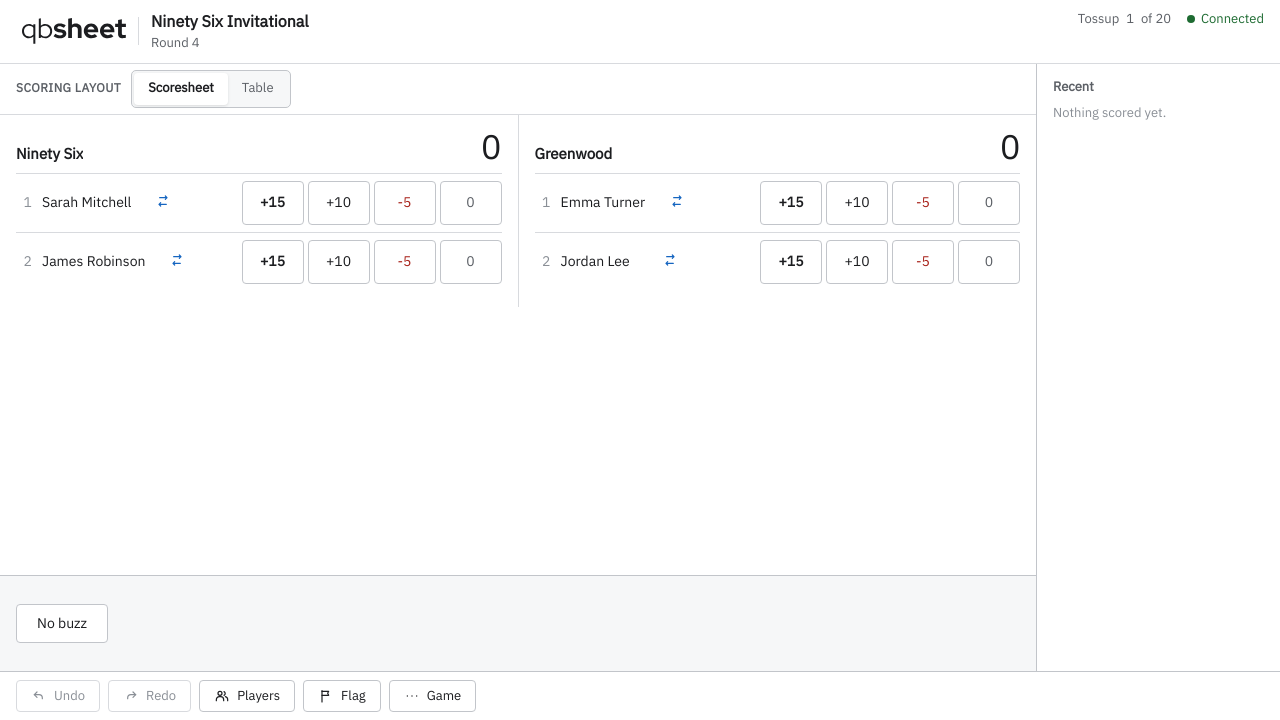
what the editor leads with › a completed tossup does not offer an impossible second attempt
The width and height of the screenshot is (1280, 720).
Click the button "+10" in the row of "Sarah Mitchell" at (338, 203), box [308,181,370,225]
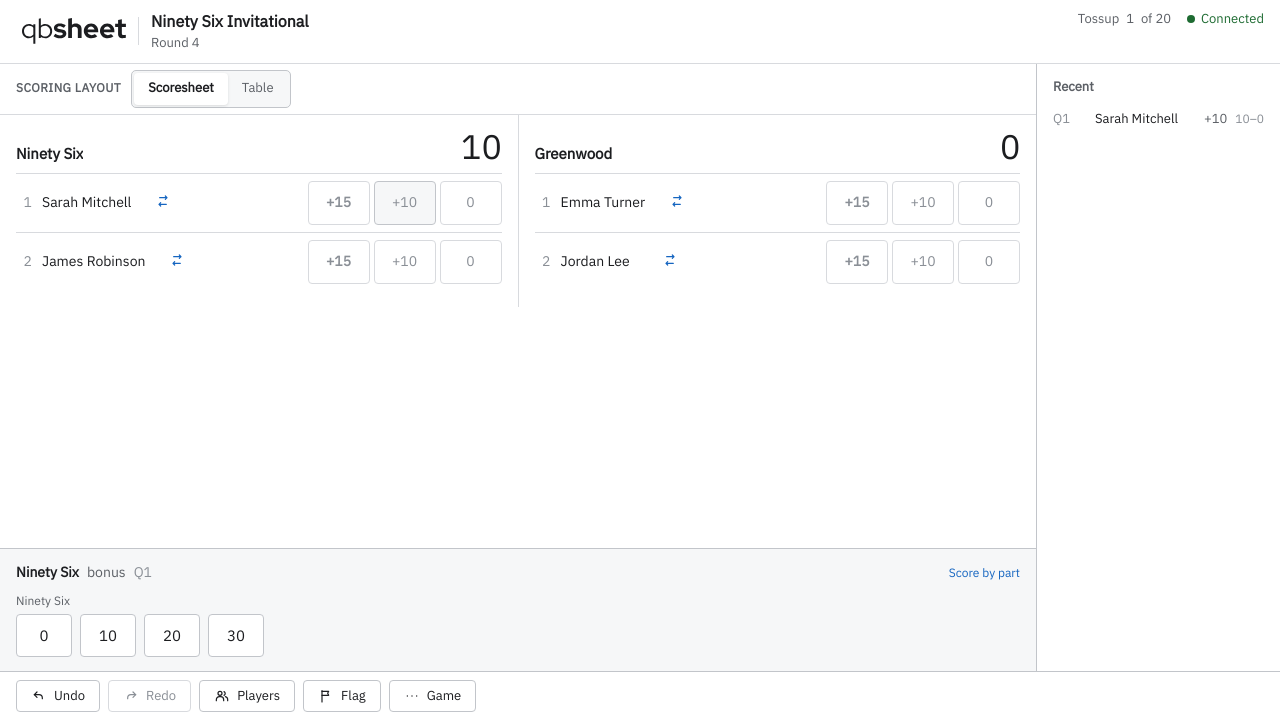
Click the button "20" at (172, 635), box [144,614,200,657]
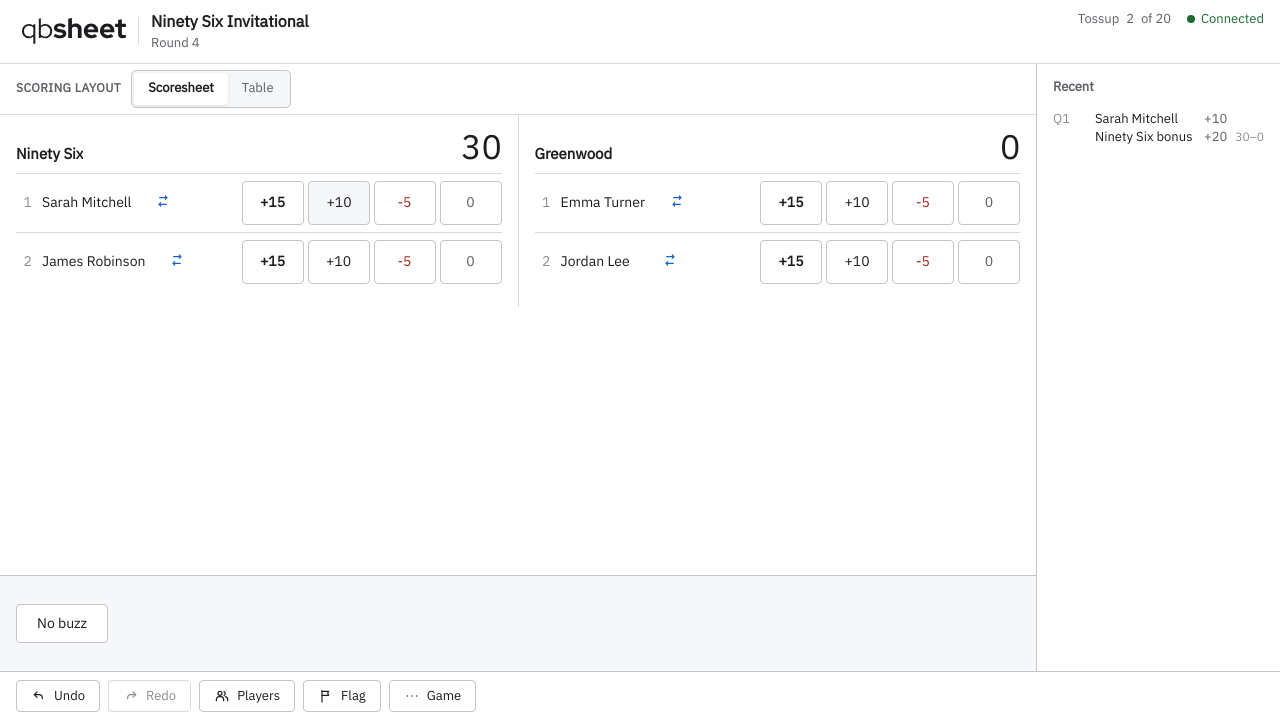
Click the text "Game" at (444, 696), box [427,687,461,705]
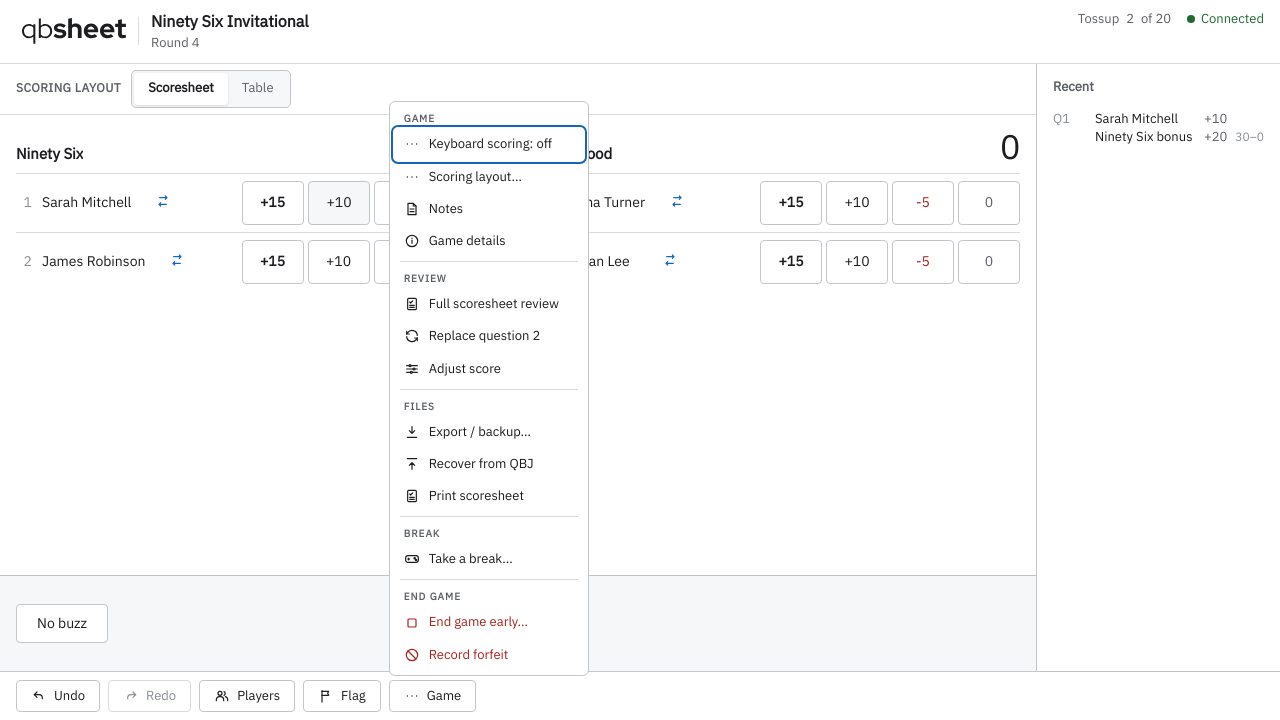
Click the menu item "Full scoresheet review" at (489, 304), box [394,288,584,320]
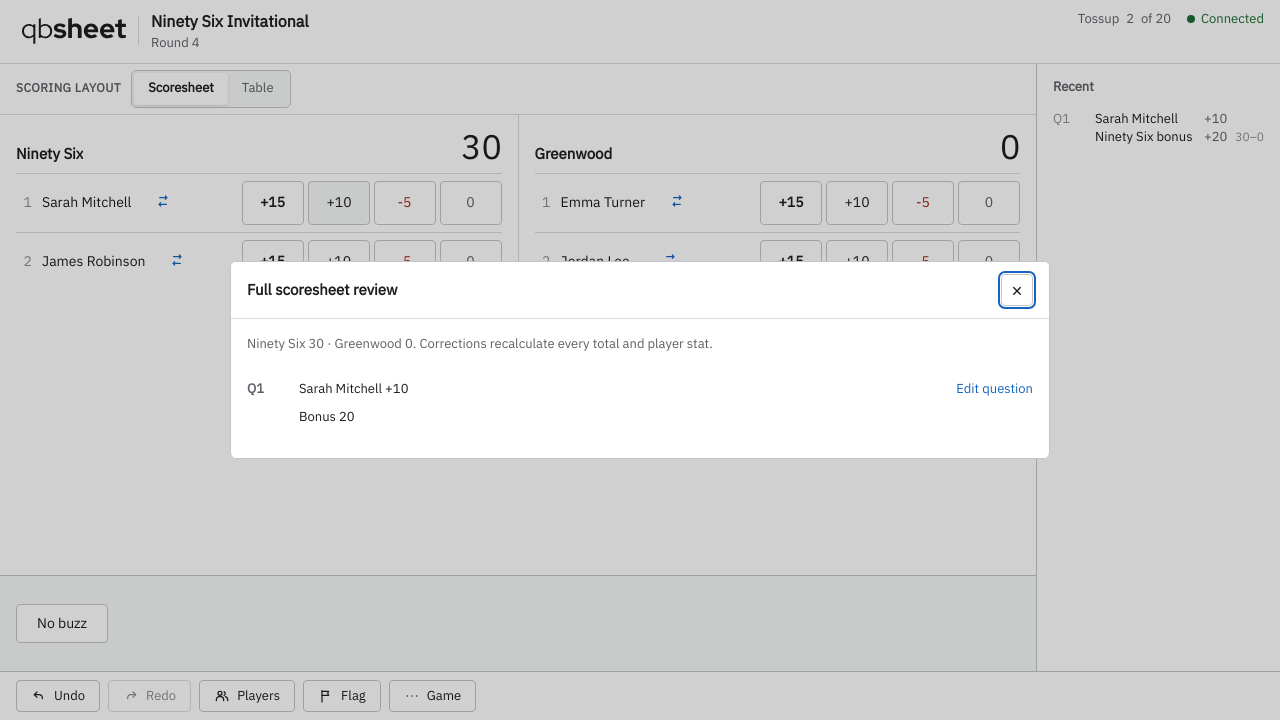
Click the button "Edit question" at (995, 389), box [956,380,1033,398]
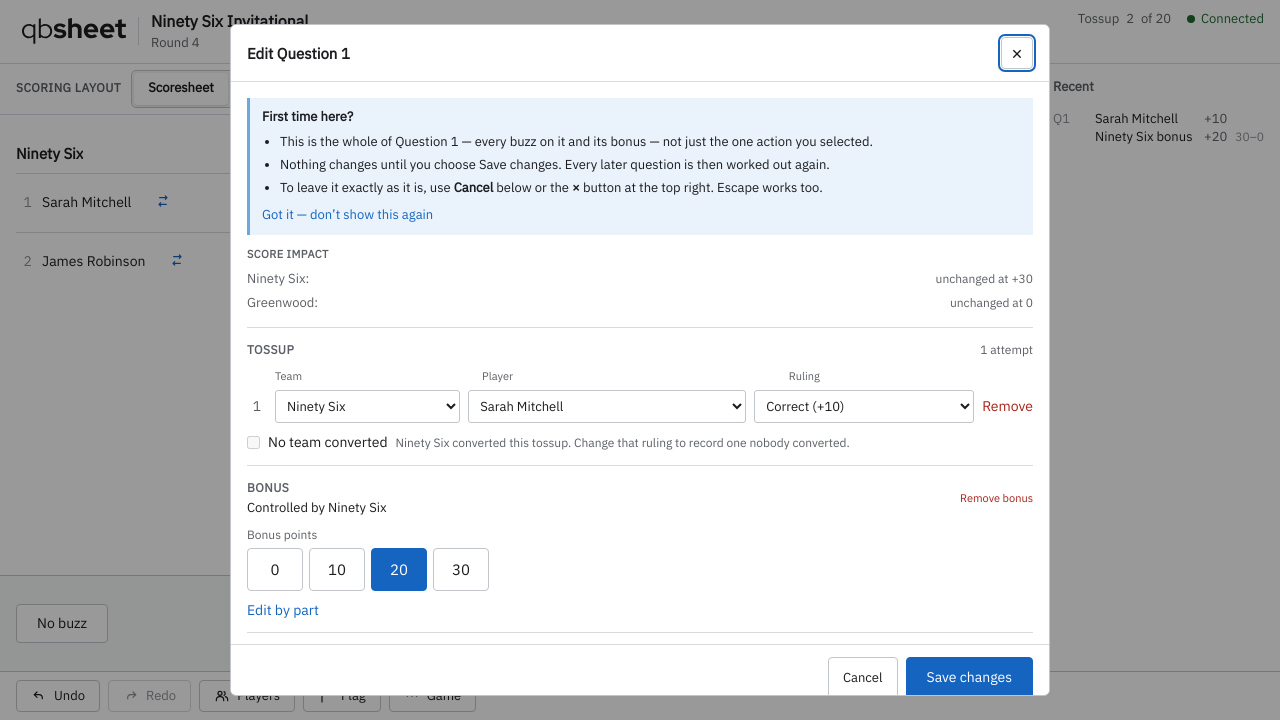
Expected: the text "+ Add attempt" is not shown
Select "Neg (-5)" in the dropdown named "Ruling" at (864, 407), box [754,390,974,423]
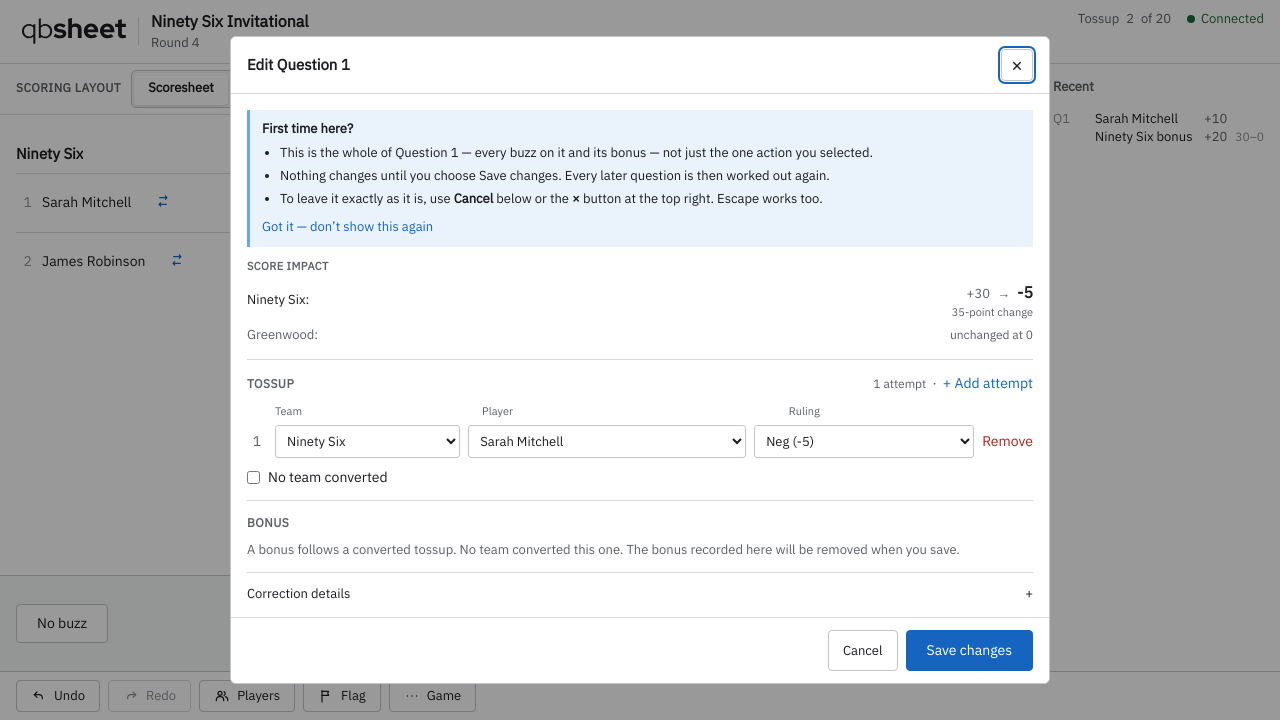
Now the button "+ Add attempt" is shown, box [943,374,1033,394]
